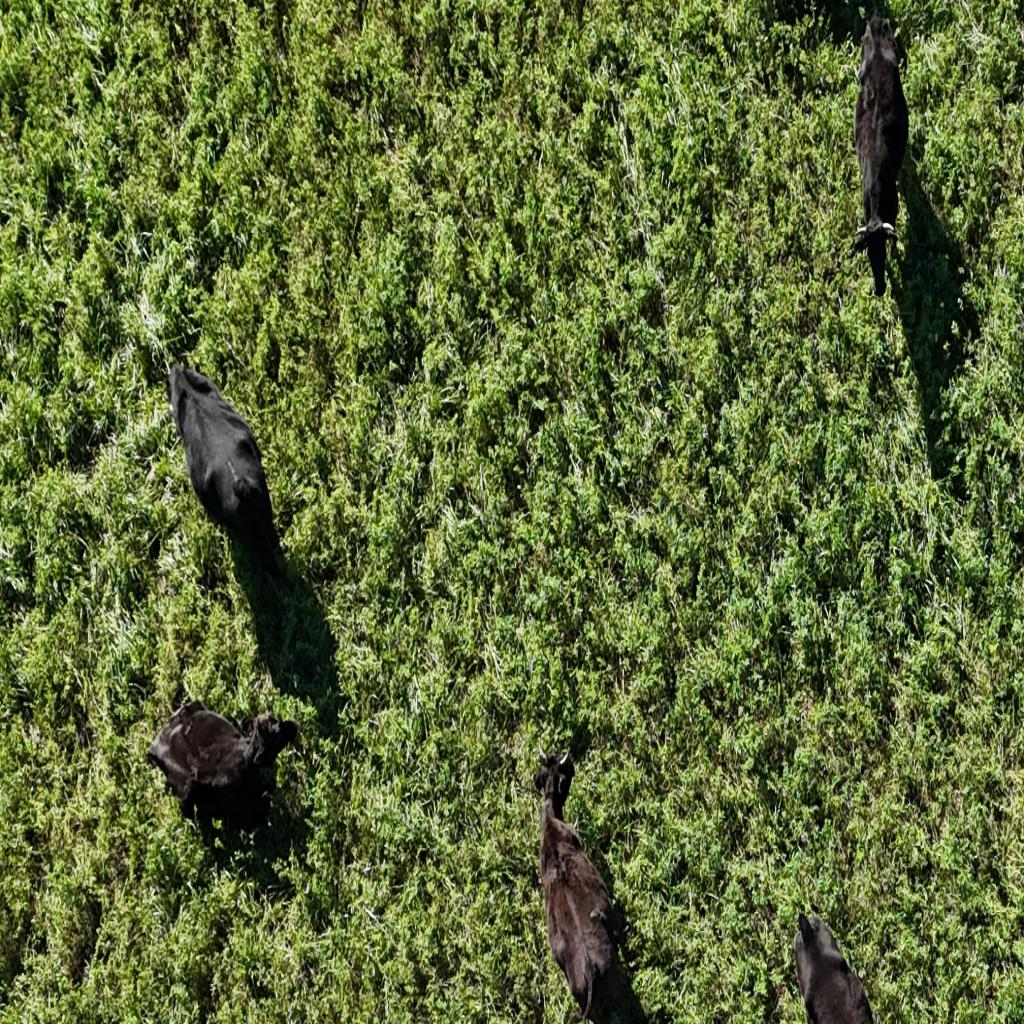cow: (532, 750, 637, 1022), (162, 357, 286, 586), (146, 690, 304, 850), (841, 12, 909, 304), (792, 908, 876, 1024)
